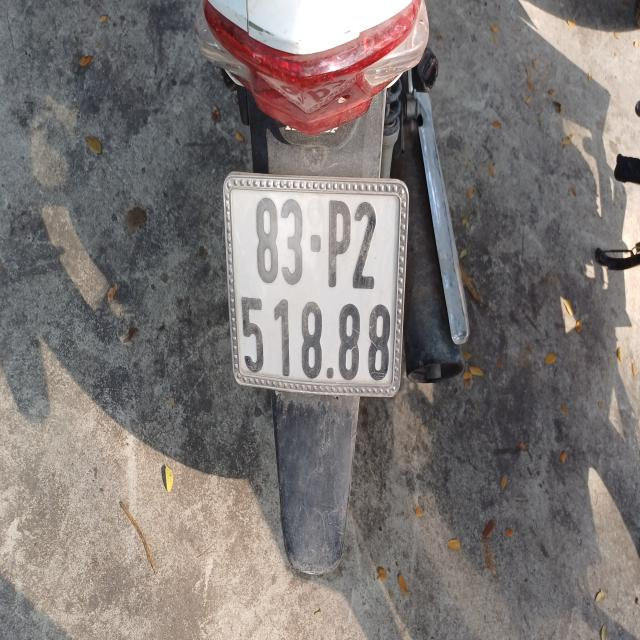1: (272, 296, 291, 377)
2: (352, 199, 378, 293)
3: (279, 199, 305, 287)
5: (237, 291, 266, 377)
8: (254, 197, 279, 287), (298, 297, 322, 380), (366, 300, 390, 380), (338, 302, 361, 379)
P: (324, 197, 353, 291)
